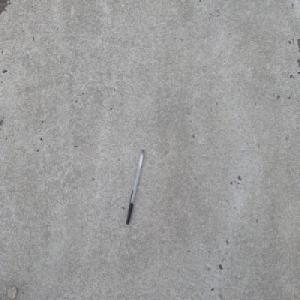Pen: (125, 148, 145, 225)
